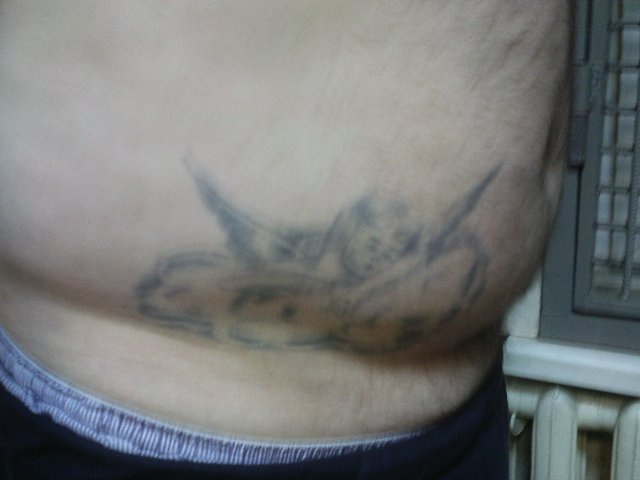tatu1_angel: (143, 124, 518, 369)
